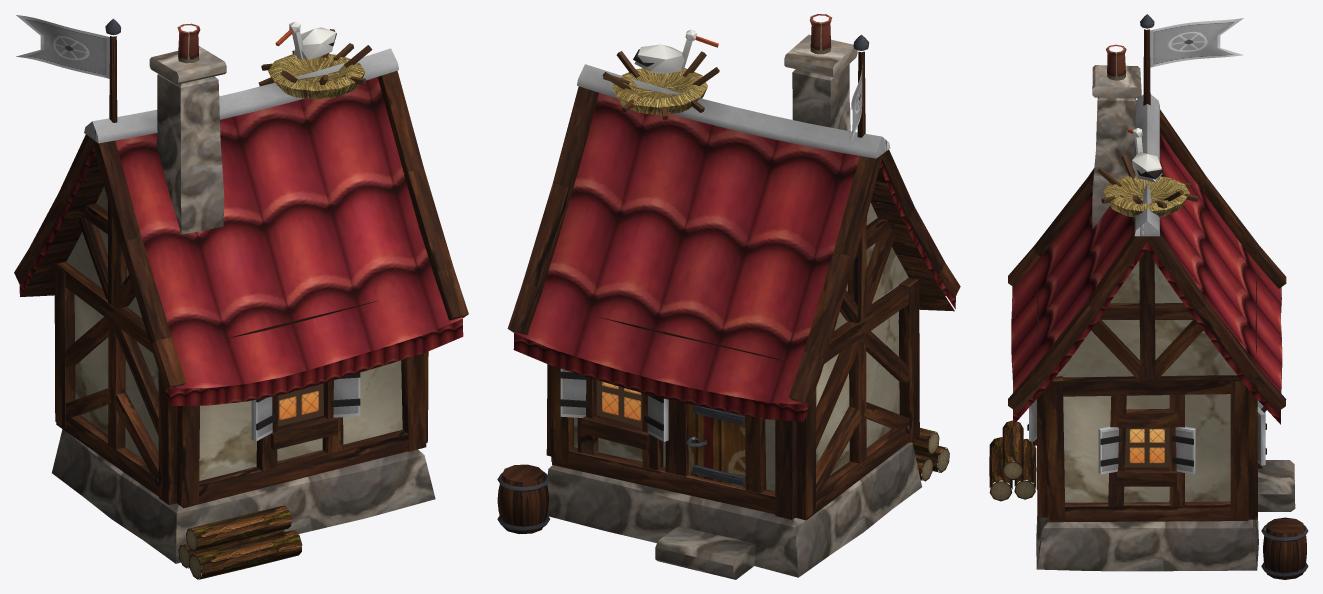
The model's file is kingdom_croft.glb.
The picture shows the model from 3 angles, left to right: view 1: azimuth 30°, elevation 25°; view 2: azimuth 150°, elevation 25°; view 3: azimuth 270°, elevation 25°; orthographic projection. The views are drawn at different scales.
Parts seen in each view (by area): view 1: kingdom_croft; view 2: kingdom_croft; view 3: kingdom_croft.
Boxes of the visible parts, left/top/right/bottom form: kingdom_croft: left=14, top=15, right=468, bottom=579; kingdom_croft: left=497, top=14, right=960, bottom=579; kingdom_croft: left=989, top=14, right=1308, bottom=579.
Size of the model in its own units: 1.97 by 2.87 by 1.87.
3 materials, 3 textured.
